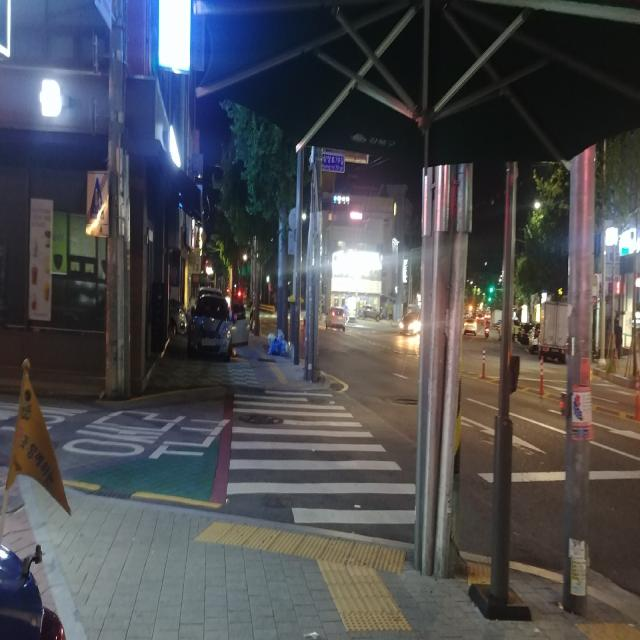횡단보도: (226, 389, 416, 524)
